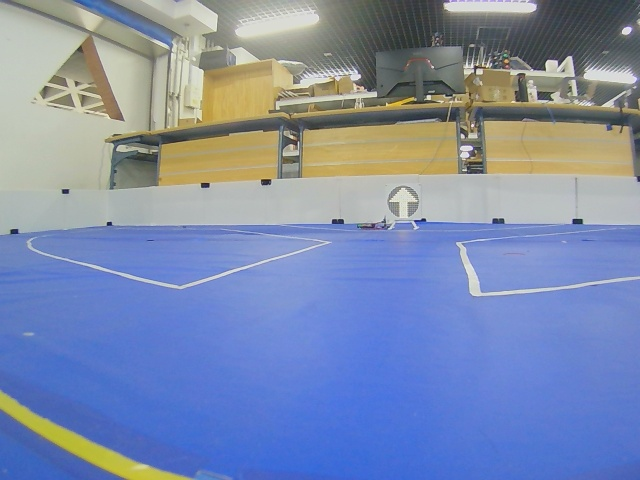straight_yellow: (388, 186, 419, 219)
